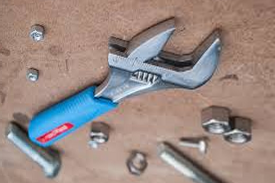Wrench: (26, 27, 243, 146)
